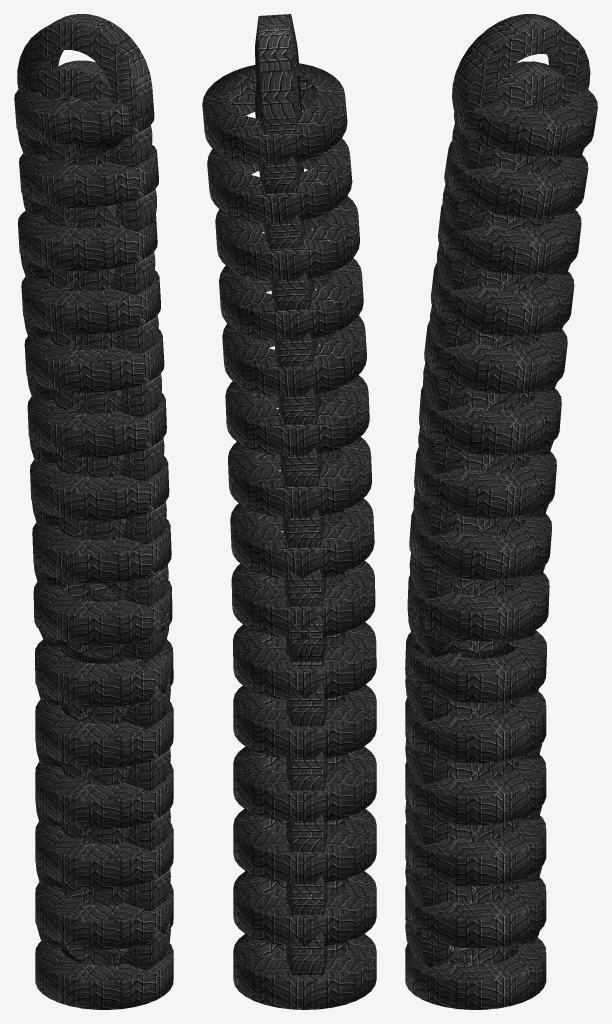
The model's file is torreLlantas.obj.
3 renders of one model, left to right at view 1: azimuth 30°, elevation 25°; view 2: azimuth 150°, elevation 25°; view 3: azimuth 270°, elevation 25°, orthographic. The views are drawn at different scales.
Parts seen in each view (by area): view 1: Cylinder219; view 2: Cylinder219; view 3: Cylinder219.
Part boxes in pixels (x1,y1,x2,y2): Cylinder219: (14, 14, 173, 1009); Cylinder219: (202, 14, 376, 1009); Cylinder219: (405, 14, 597, 1009).
Bounding box in the file's own units: 33.14 × 241 × 43.64.
